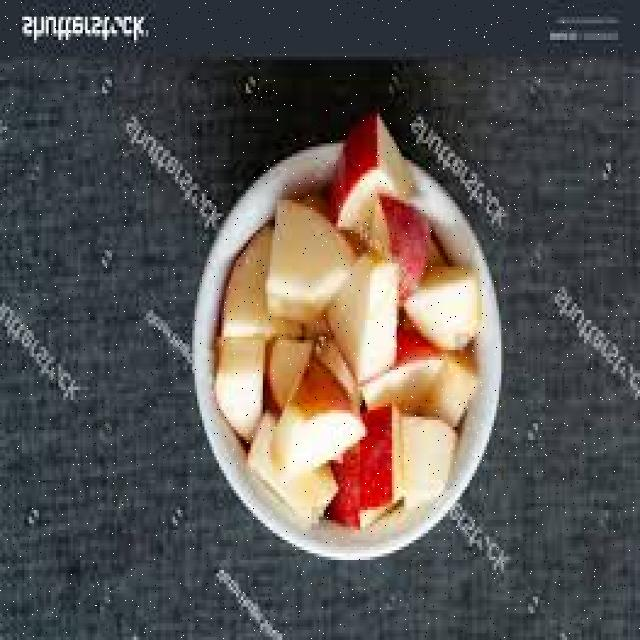Apple: (332, 247, 410, 385), (264, 201, 349, 313), (275, 367, 349, 495), (333, 123, 405, 239), (336, 410, 399, 522), (215, 340, 269, 449), (402, 268, 485, 336), (418, 350, 482, 420)
